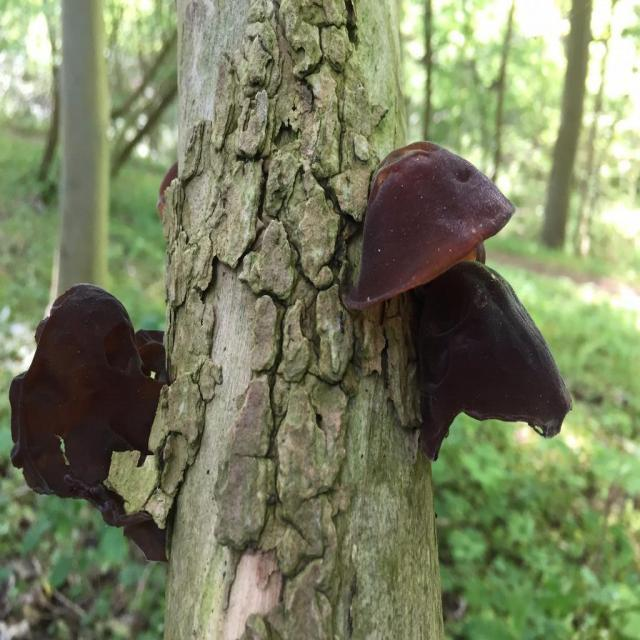Auricularia auricula: (13, 285, 175, 565), (406, 266, 573, 463), (347, 144, 515, 306)
